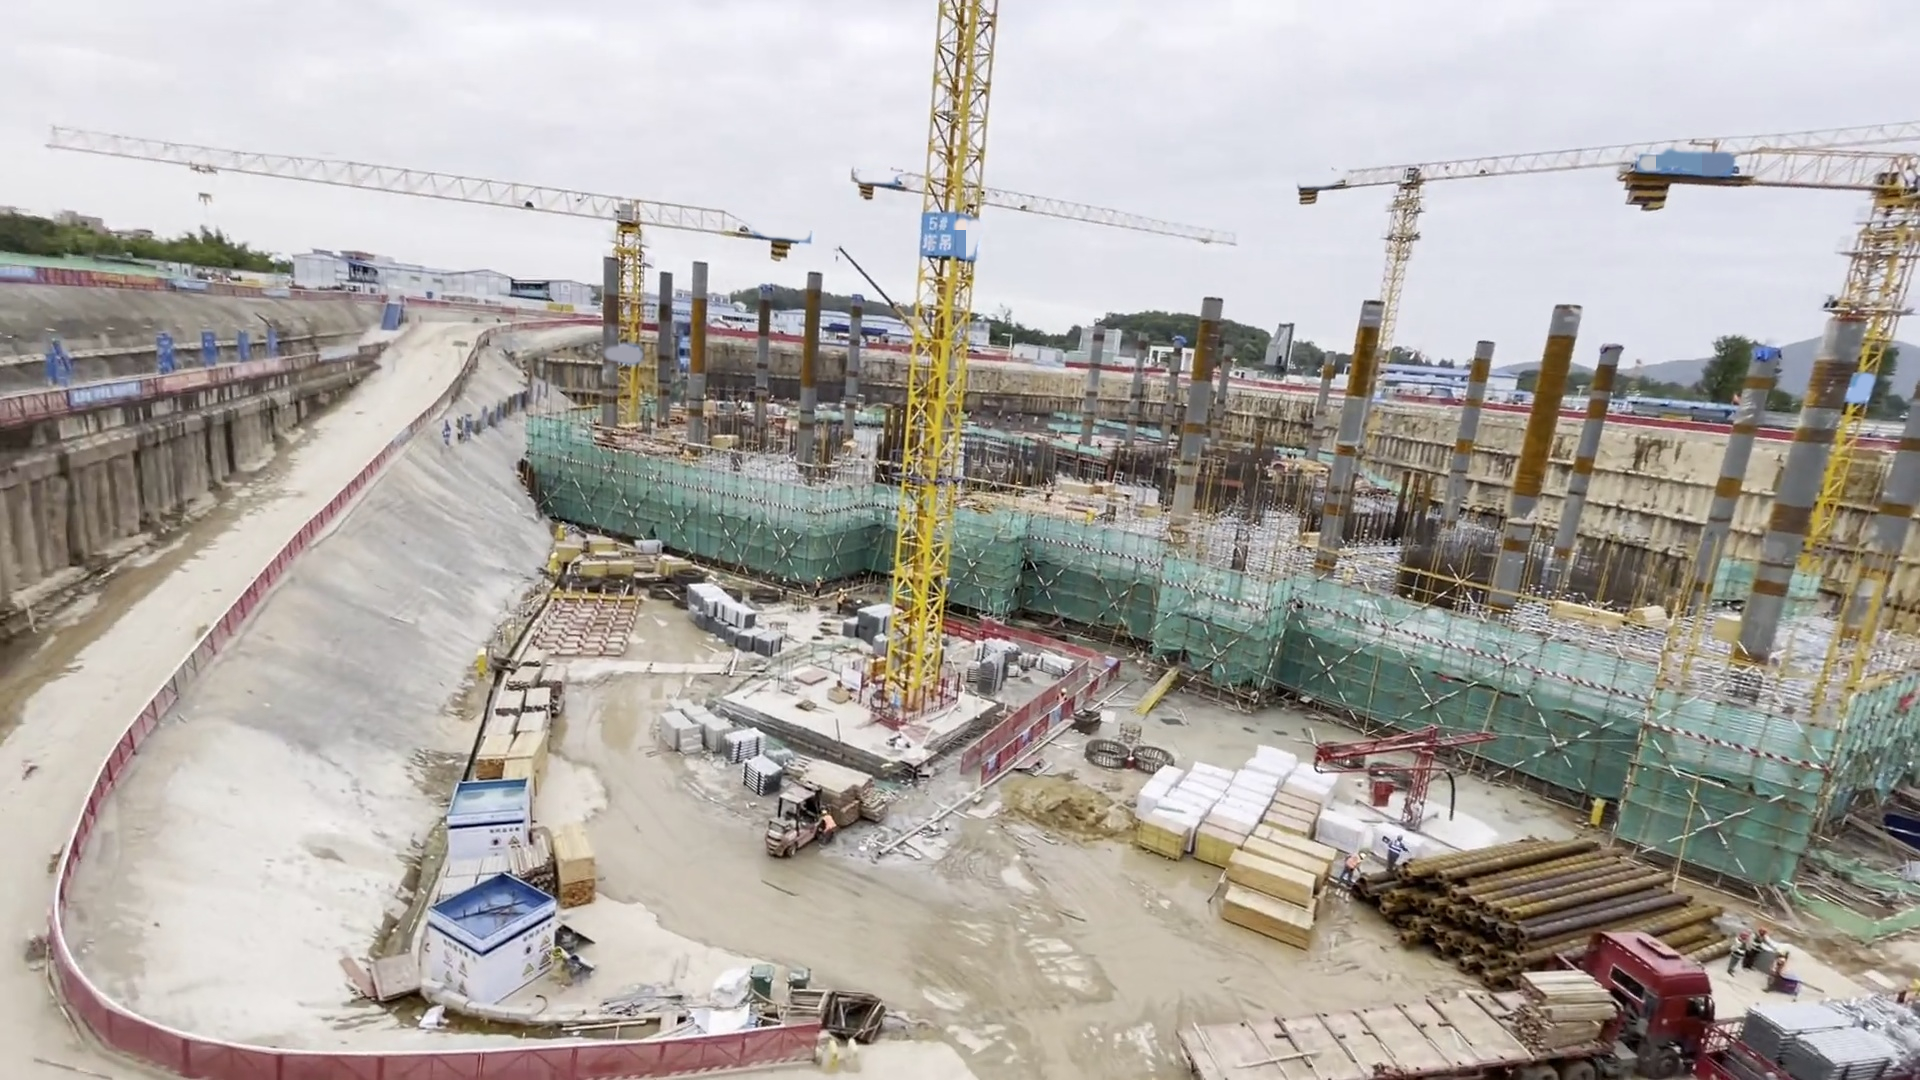board: (1188, 804, 1252, 867), (1259, 780, 1324, 835), (1135, 809, 1191, 859), (580, 552, 636, 577), (554, 536, 586, 564), (585, 531, 618, 553)
fence: (122, 1023, 845, 1072)
helmet: (1394, 834, 1407, 842), (1358, 849, 1367, 861), (1758, 925, 1768, 933), (1740, 929, 1750, 937), (1061, 687, 1070, 695)
person: (810, 803, 844, 853), (1341, 843, 1366, 892), (1381, 831, 1410, 872), (1747, 918, 1768, 970), (1732, 927, 1749, 981), (1771, 948, 1787, 996), (830, 588, 852, 620), (806, 574, 824, 601), (1053, 688, 1073, 707)
scaffold: (1742, 1001, 1893, 1076), (741, 753, 784, 794), (724, 730, 771, 766)
vest: (1733, 938, 1747, 959), (819, 815, 836, 830), (1347, 854, 1361, 871), (1773, 959, 1787, 976), (1390, 842, 1403, 855), (1057, 695, 1066, 703)
wood: (1240, 834, 1334, 946), (1515, 967, 1612, 1054), (553, 828, 600, 910), (815, 762, 879, 801)
